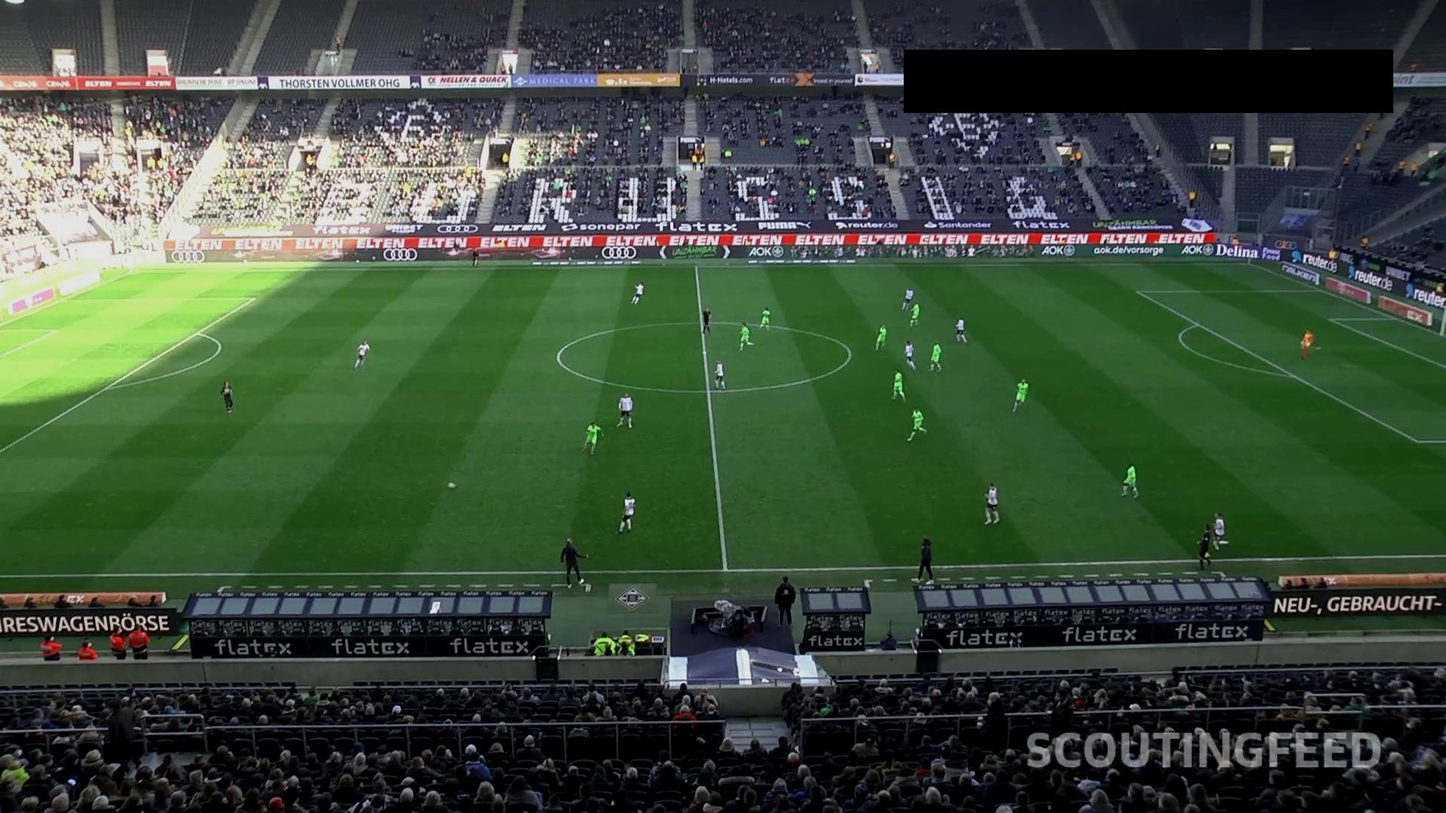ball: (448, 480, 458, 490)
player: (983, 482, 1003, 526), (619, 490, 639, 533), (1210, 511, 1232, 550), (1012, 376, 1032, 415), (583, 421, 604, 458), (1121, 461, 1141, 498), (908, 408, 930, 440), (618, 393, 636, 429), (219, 380, 238, 413), (354, 340, 374, 371), (891, 369, 908, 402), (929, 339, 944, 373), (713, 358, 728, 391), (1302, 328, 1317, 360), (904, 340, 918, 372), (630, 281, 647, 307), (954, 318, 970, 344), (875, 324, 889, 353), (739, 323, 753, 351), (760, 306, 773, 332), (910, 302, 921, 328), (902, 287, 913, 311)
refree: (1199, 523, 1213, 570), (703, 306, 713, 335), (472, 248, 480, 266)
